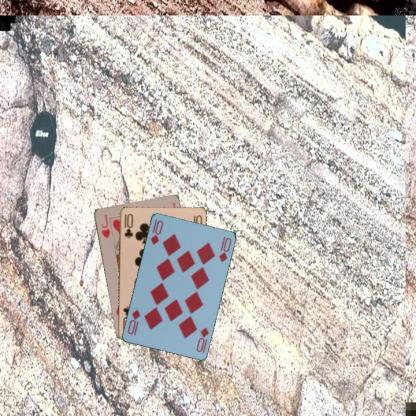10c: (122, 211, 134, 239)
10d: (148, 217, 164, 246), (194, 325, 210, 353)
Jh: (98, 212, 112, 239)
